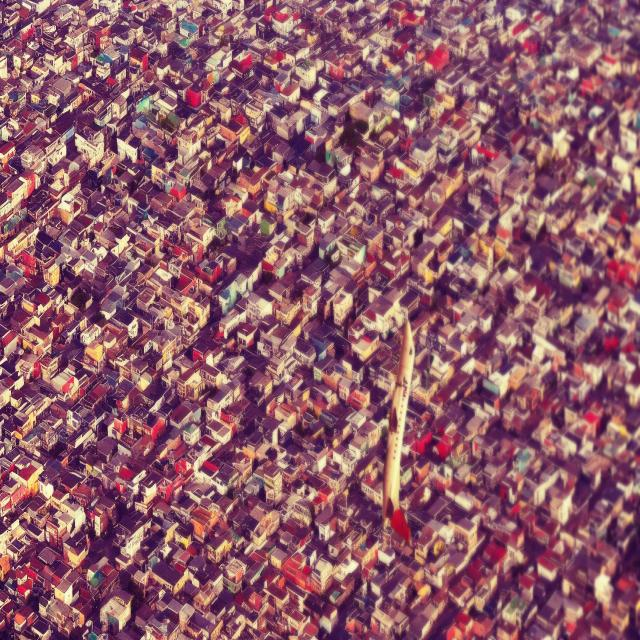airplane: (381, 317, 415, 545)
